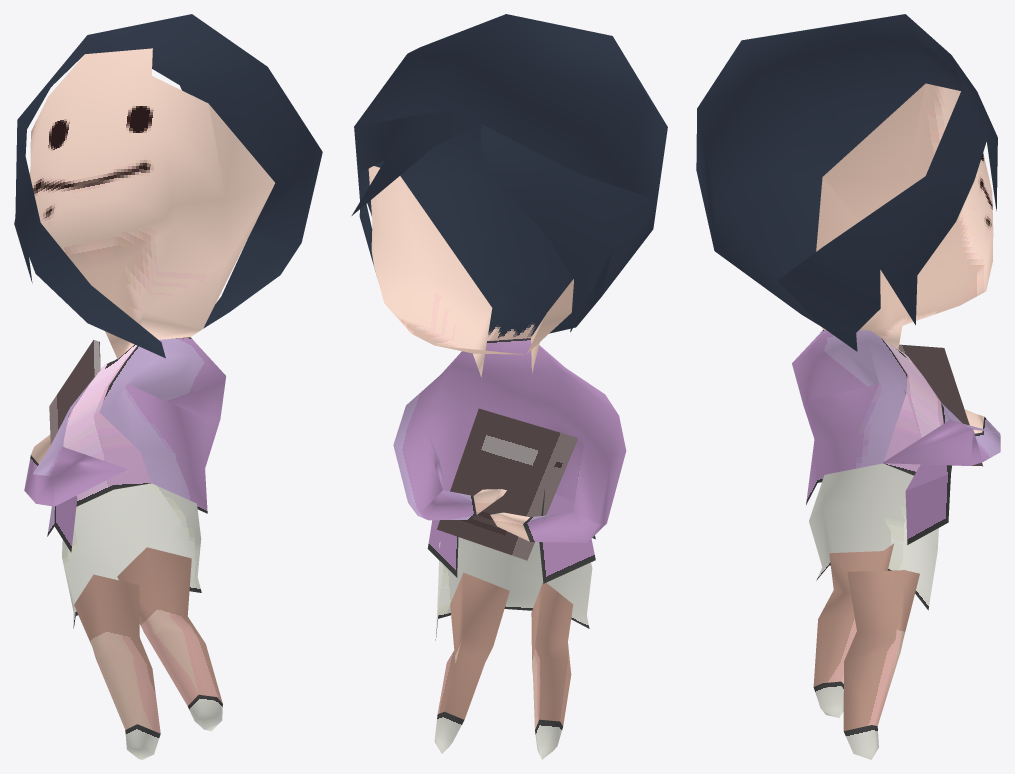
Rendered from ps2_save-icons_3nenbgumi.glb.
3 views of the same model, side by side, from view 1: azimuth 30°, elevation 25°; view 2: azimuth 150°, elevation 25°; view 3: azimuth 270°, elevation 25° (orthographic). The views are drawn at different scales.
Visible parts, largest first — view 1: g1.icn; view 2: g1.icn; view 3: g1.icn.
Boxes of the visible parts, left/top/right/bottom form: g1.icn: left=14, top=14, right=322, bottom=759; g1.icn: left=351, top=14, right=667, bottom=759; g1.icn: left=696, top=14, right=1000, bottom=759.
Size of the model in its own units: 1.56 by 3.95 by 1.55.
Materials: 1 (1 with a texture image).
